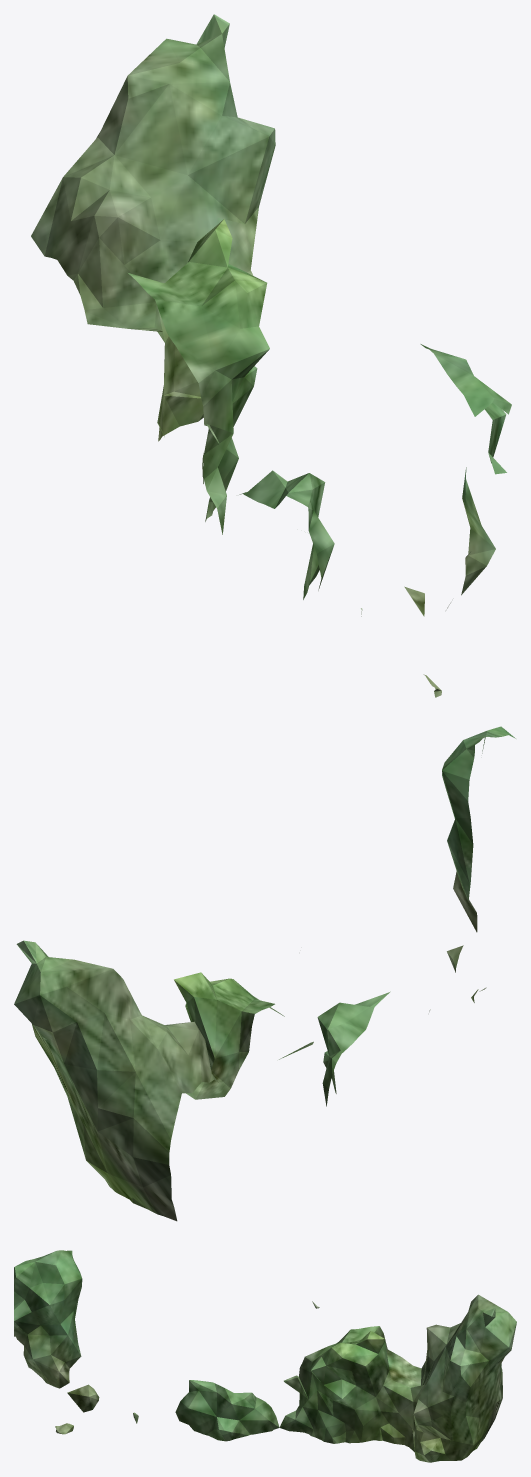
The picture shows the model from 3 angles, top to bottom: view 1: azimuth 30°, elevation 25°; view 2: azimuth 150°, elevation 25°; view 3: azimuth 270°, elevation 25°; orthographic projection. The views are drawn at different scales.
Size of the model in its own units: 0.7108 by 1.04 by 2.61.
Materials: 1 (1 with a texture image).
